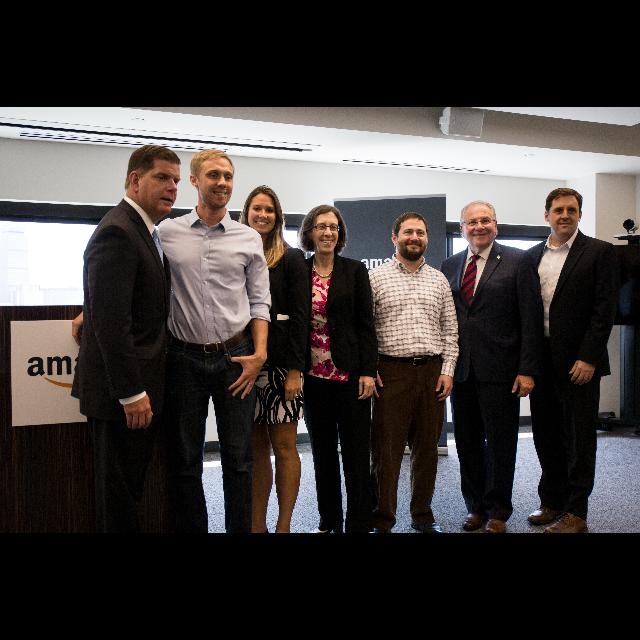head: (127, 146, 181, 214), (190, 149, 234, 209), (544, 190, 584, 238), (304, 205, 342, 255), (459, 200, 498, 248), (242, 186, 280, 234), (391, 214, 429, 258)
